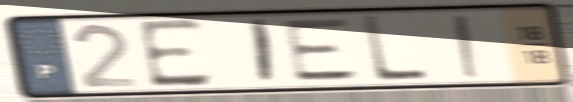2: (69, 21, 143, 89)
E: (134, 16, 217, 92), (280, 16, 366, 84)
I: (449, 12, 485, 80), (250, 17, 277, 86)
L: (359, 13, 431, 85)
